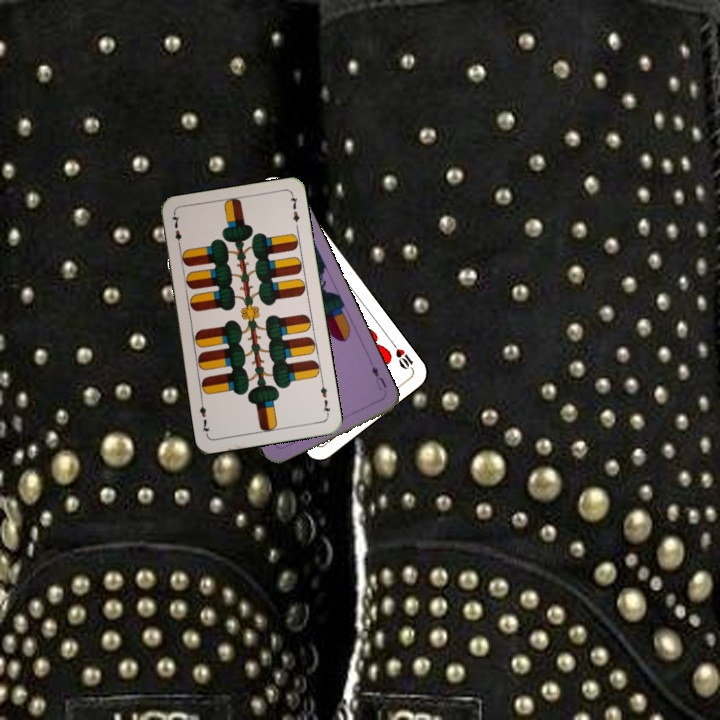E7: (316, 378, 333, 418), (168, 211, 184, 251)
EU: (367, 362, 389, 393)
H10: (387, 338, 416, 373)
